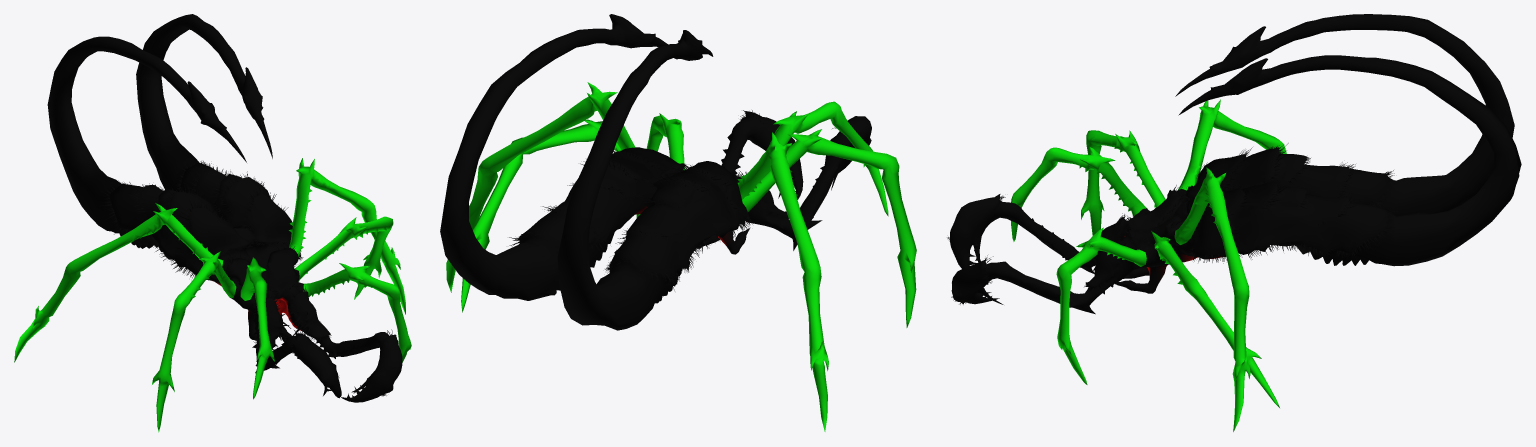
The model's file is ARA_Test_export.fbx.
3 renders of one model, left to right at view 1: azimuth 30°, elevation 25°; view 2: azimuth 150°, elevation 25°; view 3: azimuth 270°, elevation 25°, orthographic. The views are drawn at different scales.
Parts seen in each view (by area): view 1: part0; view 2: part0; view 3: part0.
Part boxes in pixels (x1,y1,x2,y2): part0: (14,14,411,432); part0: (440,14,916,431); part0: (947,14,1521,431).
Bounding box in the file's own units: 32838 × 25131 × 43035.
